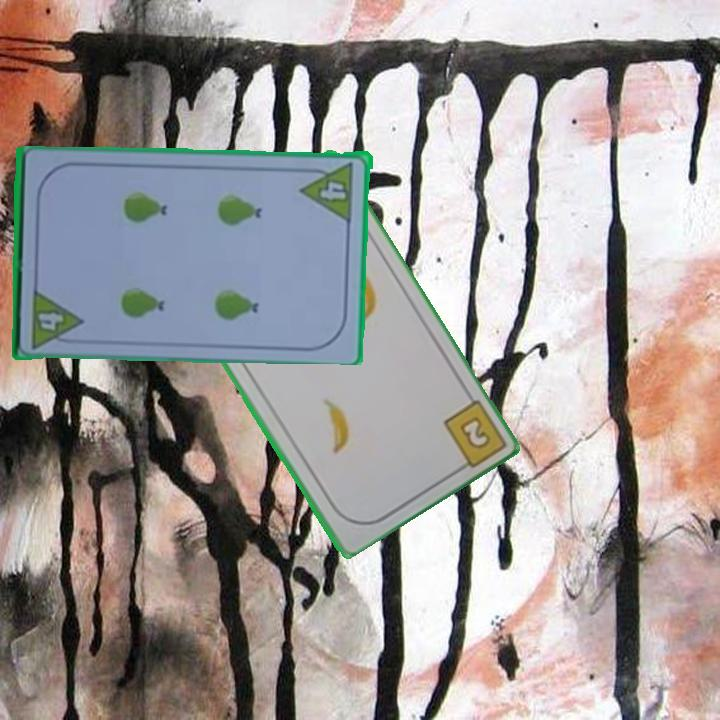2b: (439, 394, 506, 475)
4p: (299, 158, 357, 223), (28, 286, 86, 351)
